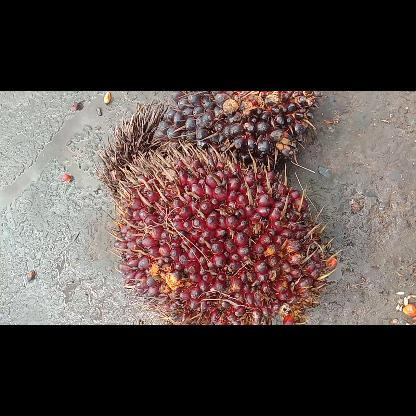Janjang kosong: (92, 100, 168, 190)
TBS masak: (104, 139, 340, 323)
TBS mentah: (152, 90, 322, 170)
